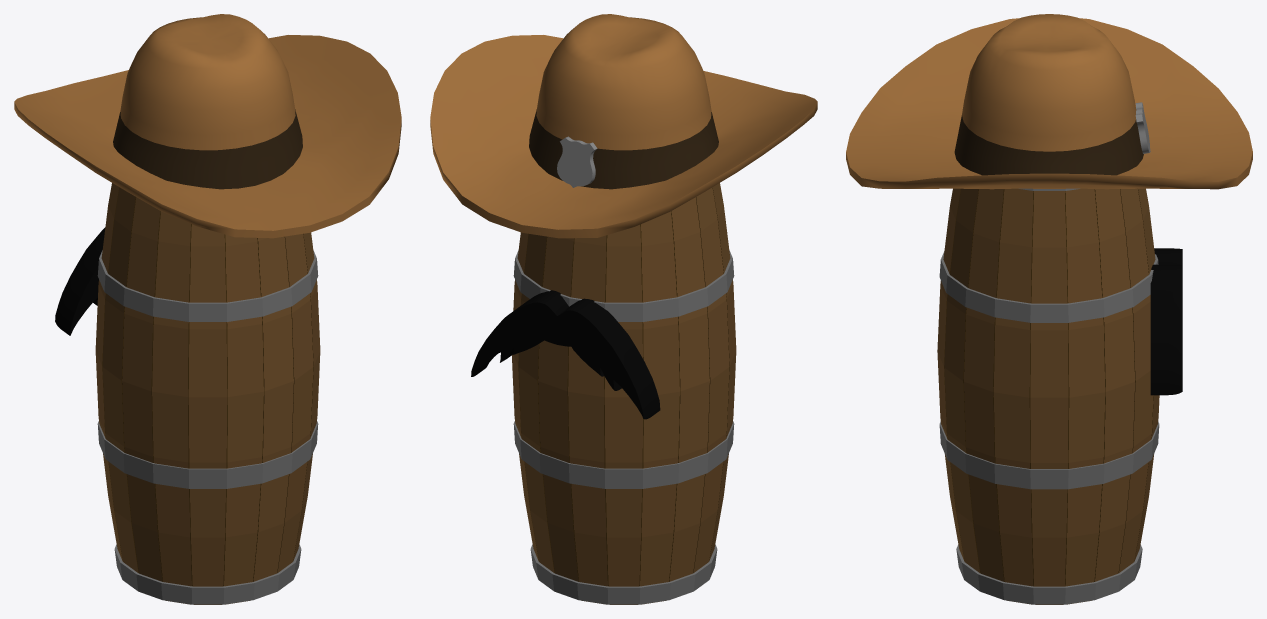
File: barrel deputy.fbx
3 views of the same model, side by side, from view 1: azimuth 30°, elevation 25°; view 2: azimuth 150°, elevation 25°; view 3: azimuth 270°, elevation 25° (orthographic).
Parts seen in each view (by area): view 1: barrel deputy 1; view 2: barrel deputy 1; view 3: barrel deputy 1.
Part boxes in pixels (x1,y1,x2,y2): barrel deputy 1: (14,14,401,604); barrel deputy 1: (430,14,817,604); barrel deputy 1: (846,14,1252,604).
Size of the model in its own units: 674 by 1059 by 732.
